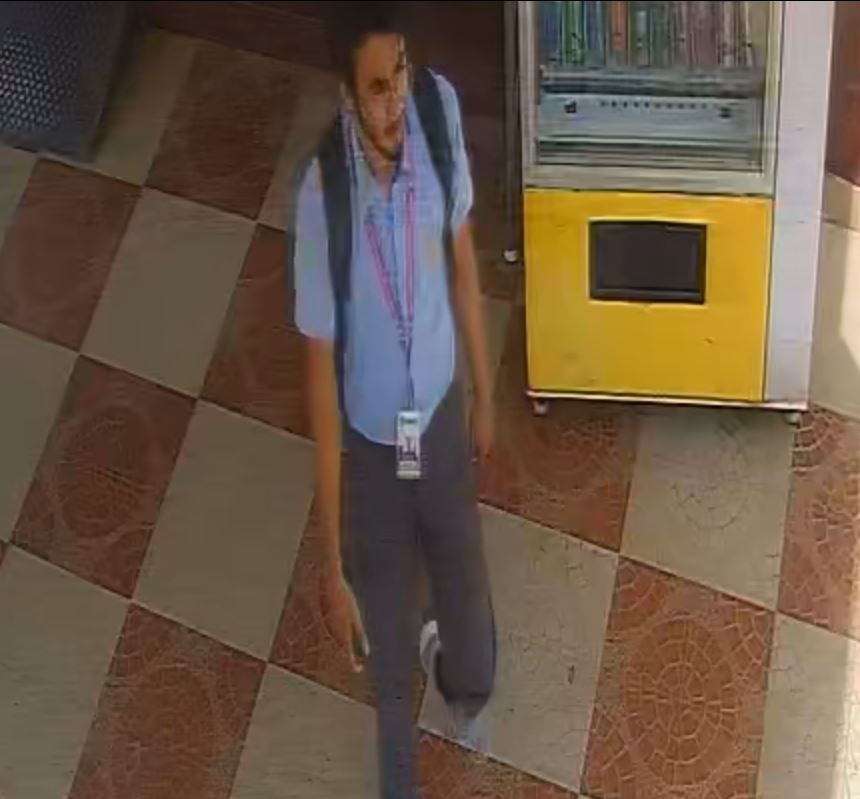intruder: (290, 6, 529, 799)
